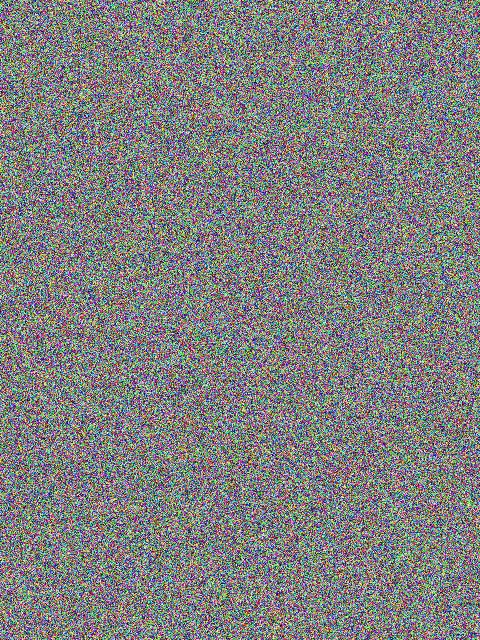car: (155, 251, 205, 394)
sheep: (197, 458, 317, 511)
